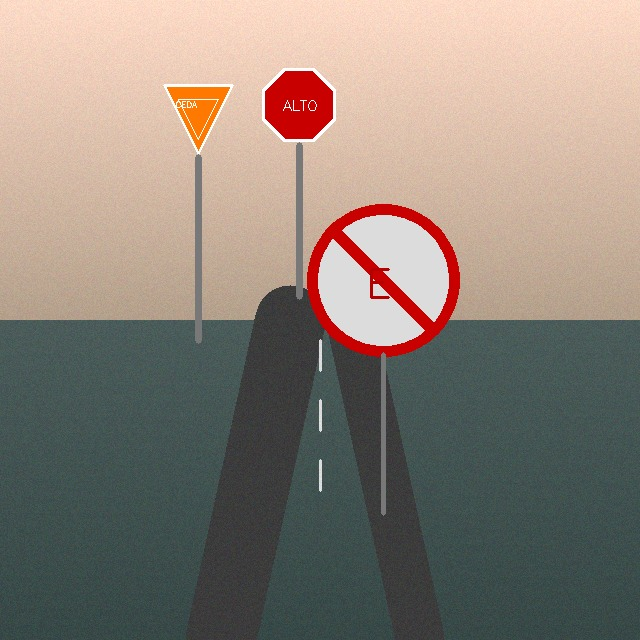alto: (259, 65, 339, 145)
ceda_el_paso: (160, 81, 236, 157)
no_estacionar: (310, 207, 457, 354)
